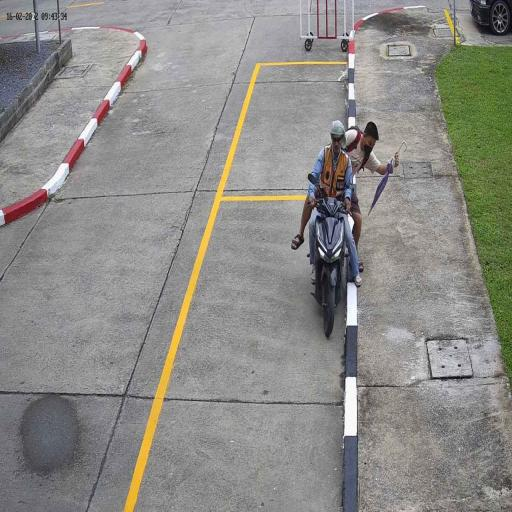motorcycle: (311, 196, 347, 338)
